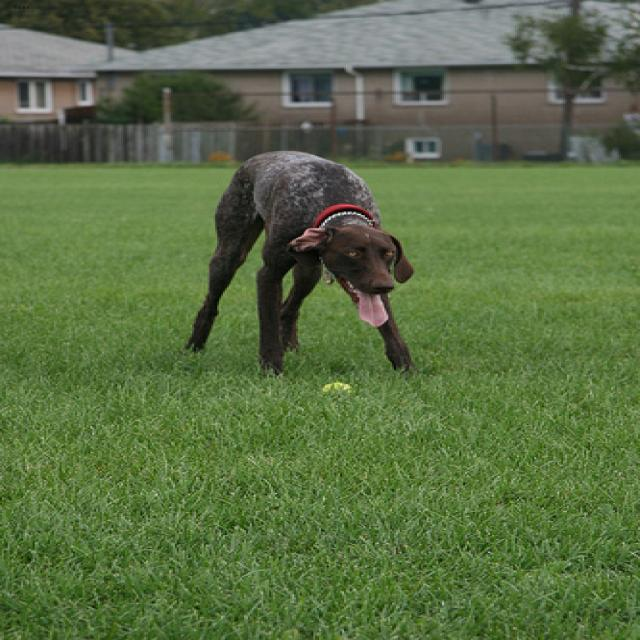dog-german_shorthaired: (175, 146, 427, 379)
